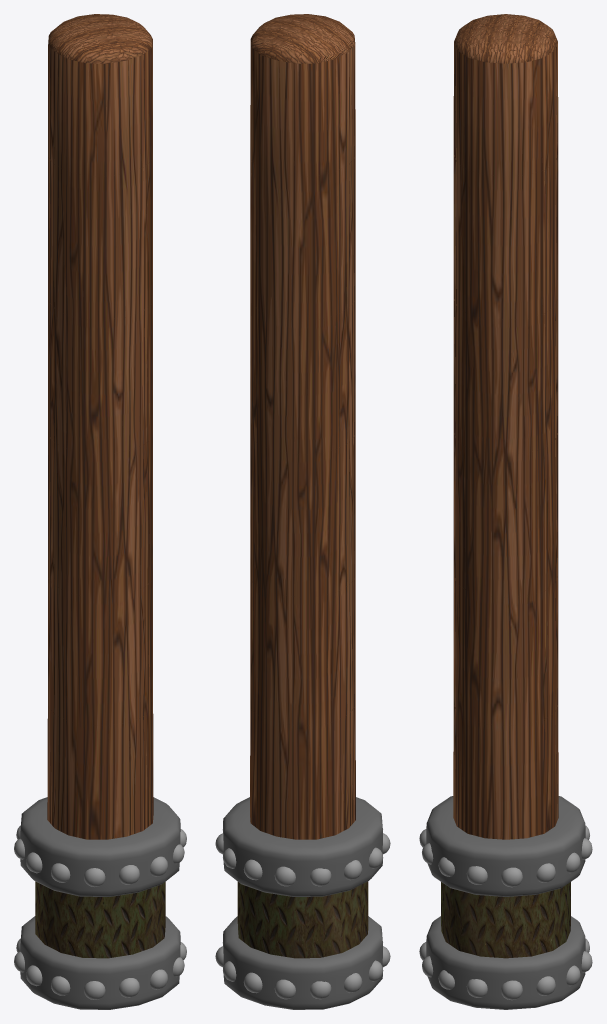
Rendered from pilarBase.fbx.
The picture shows the model from 3 angles, left to right: view 1: azimuth 30°, elevation 25°; view 2: azimuth 150°, elevation 25°; view 3: azimuth 270°, elevation 25°; orthographic projection.
Parts seen in each view (by area): view 1: Cube.234; view 2: Cube.234; view 3: Cube.234.
Part boxes in pixels (x1,y1,x2,y2): Cube.234: [14, 14, 186, 1009]; Cube.234: [215, 14, 390, 1009]; Cube.234: [419, 14, 592, 1009].
Size of the model in its own units: 902 by 5466 by 896.
Materials: 4 (2 with a texture image).
